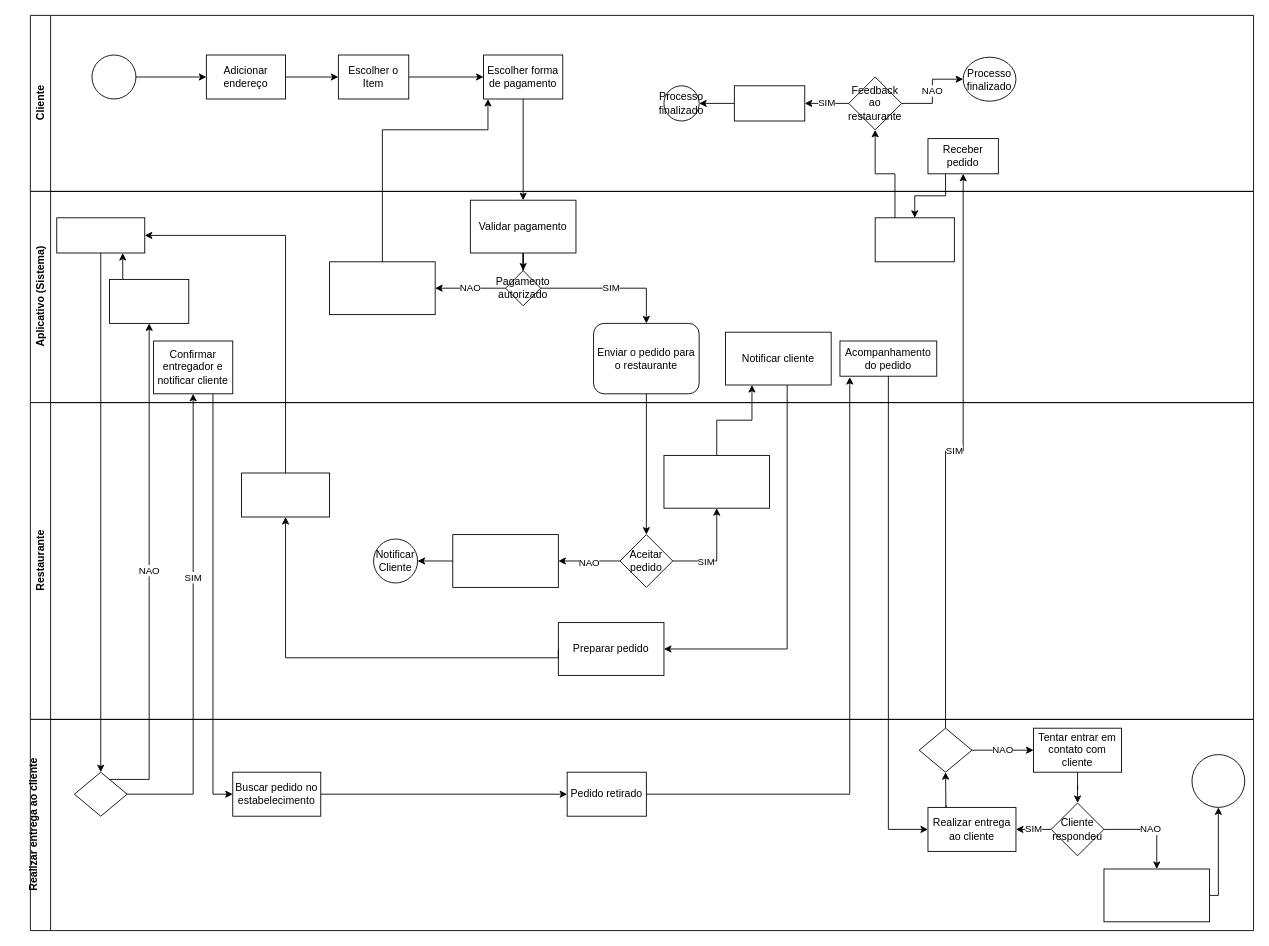
Image size: 1269x946. Some labels were removed from this diagram. Here are the shapes that lost their labels. From the top down, the centre of each, then its label:
At point (113, 76): "Login / Registrar".
At point (769, 103): "Realizar feedback ao restaurante".
At point (100, 235): "Notificar entregadores".
At point (914, 239): "Confirmar recebimento".
At point (149, 301): "Notificar cliente de atraso na entrega".
At point (382, 288): "Notificar falha ao cliente".
At point (285, 494): "Notificar sistema de pedido pronto".
At point (716, 481): "Confirmar pedido".
At point (505, 560): "Rejeitar pedido".
At point (945, 749): "Realizou entrega do pedido".
At point (100, 793): "Aceitar corrida".
At point (1218, 780): "Se não resolvido: encherrar pedido".
At point (1156, 895): "Entrar em contato com restaurante".
